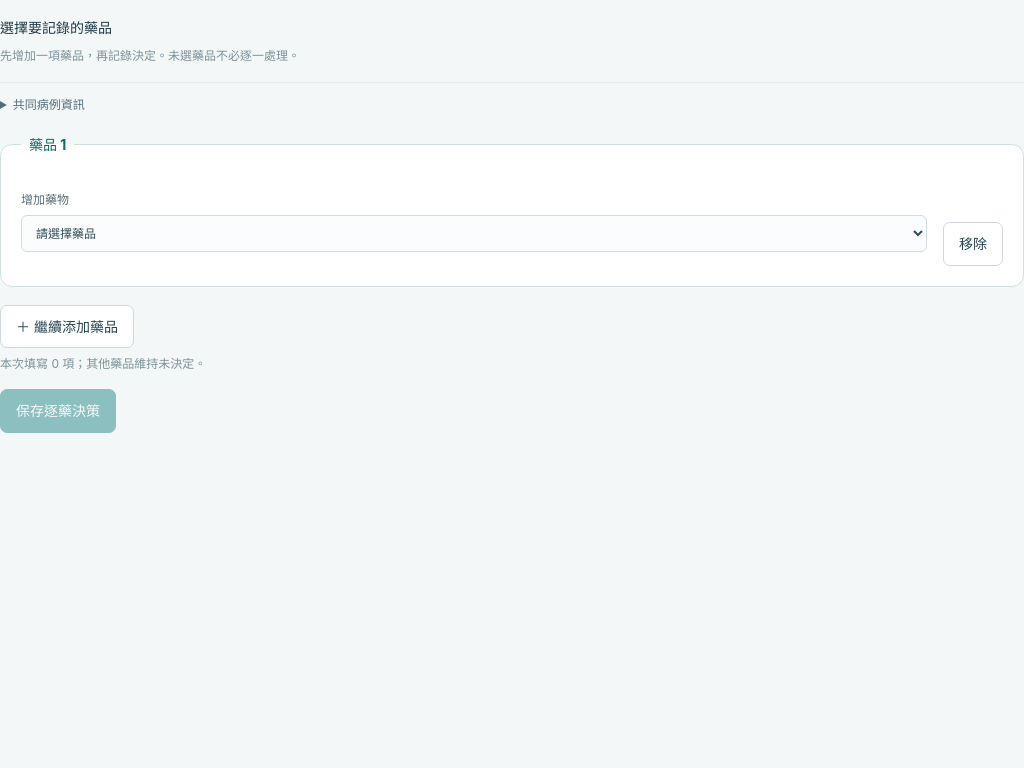
Test: unknown AST remains visibly unverified even when the model draft claims sensitivity
The image size is (1024, 768).
Select "ertapenem" in the dropdown named "藥品 1" at (474, 233), box [21,215,927,252]
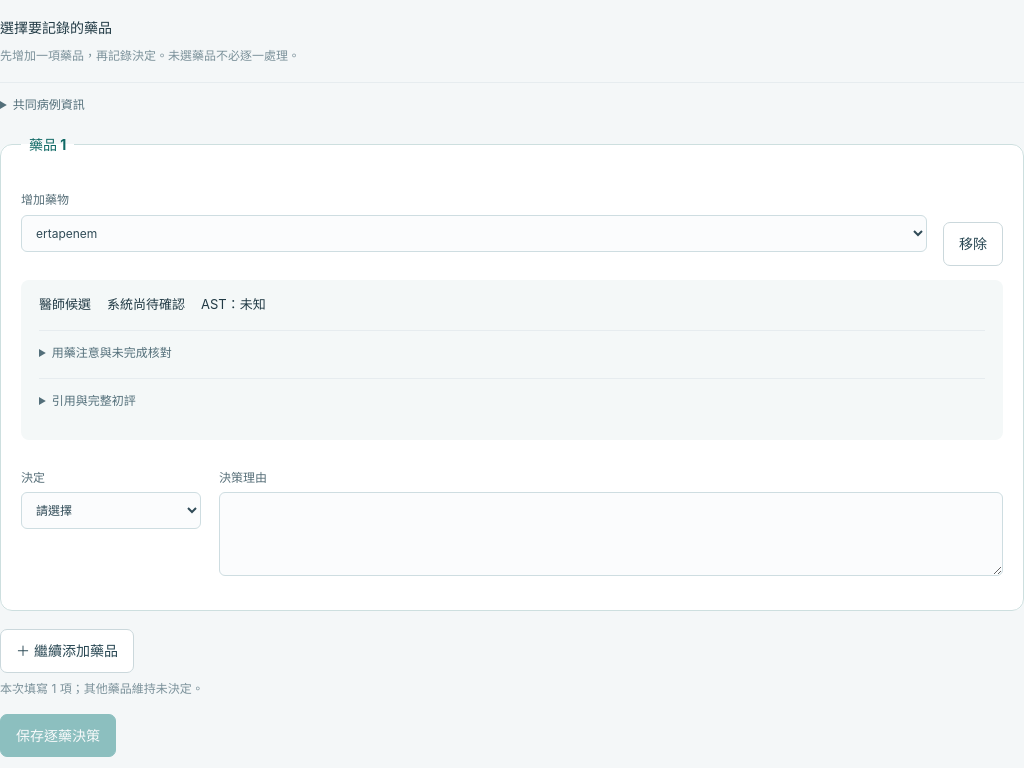
Click the heading "用藥注意與未完成核對".
click(112, 352)  # box [52,345,172,360]
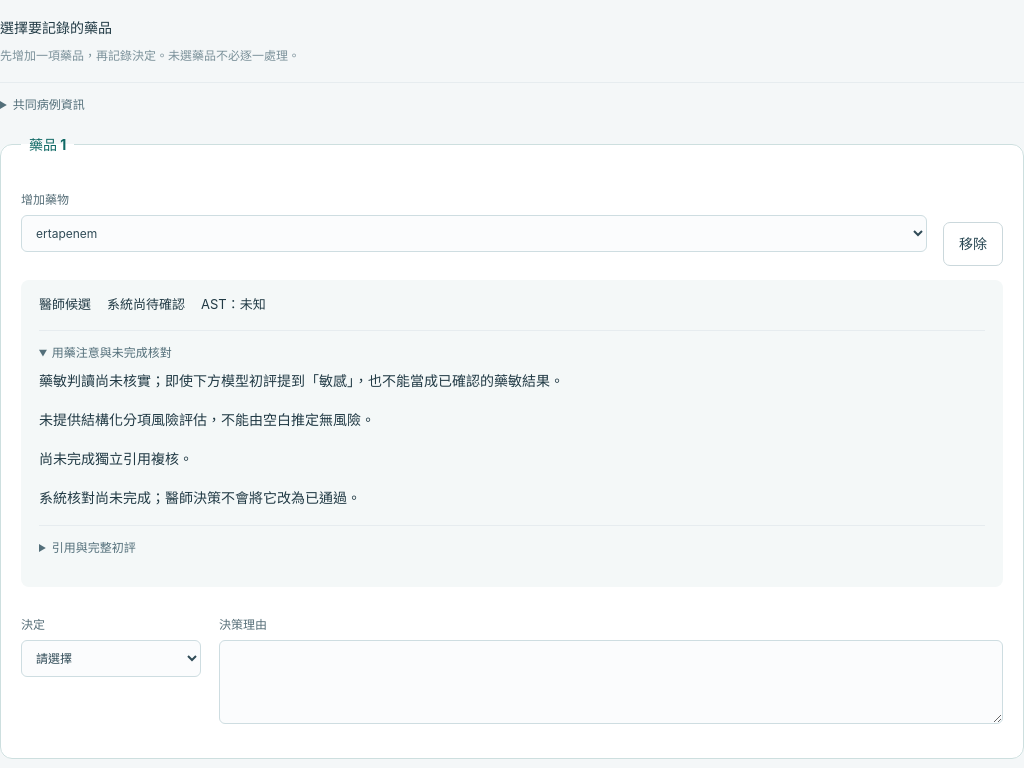
Now the text "藥敏判讀尚未核實；即使下方模型初評提到「敏感」，也不能當成已確認的藥敏結果。" is shown, box [39,372,564,389]
Click the heading "引用與完整初評".
click(94, 548)  # box [52,540,136,555]
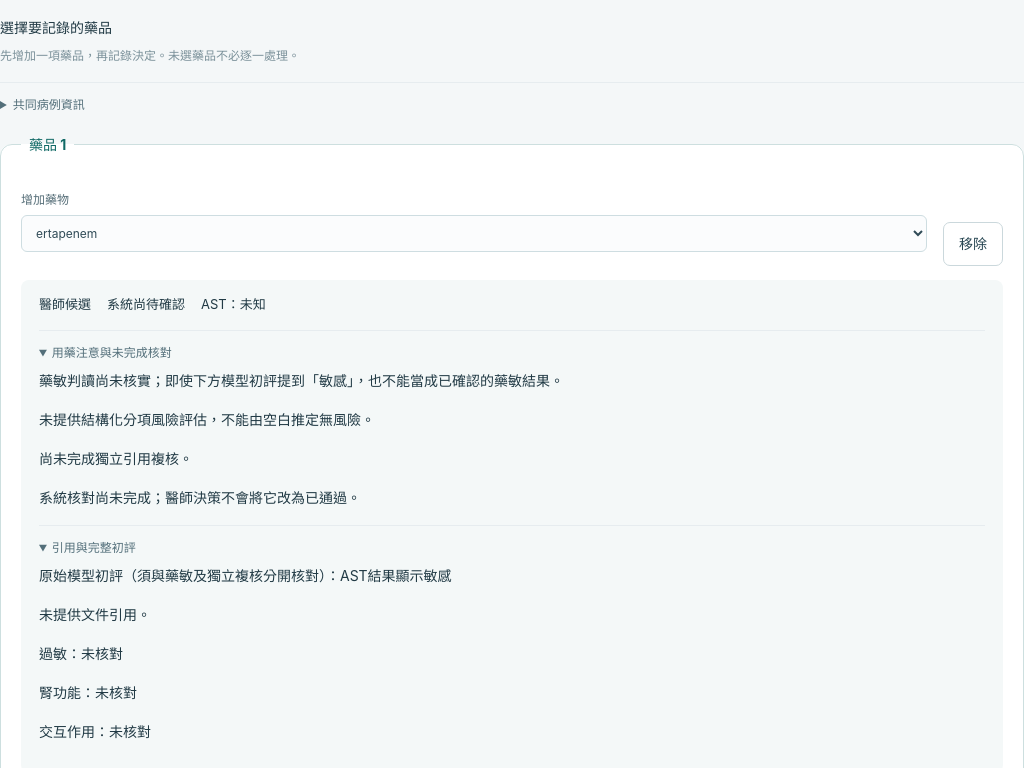
Now the text "原始模型初評（須與藥敏及獨立複核分開核對）：" is shown, box [39,567,340,584]
